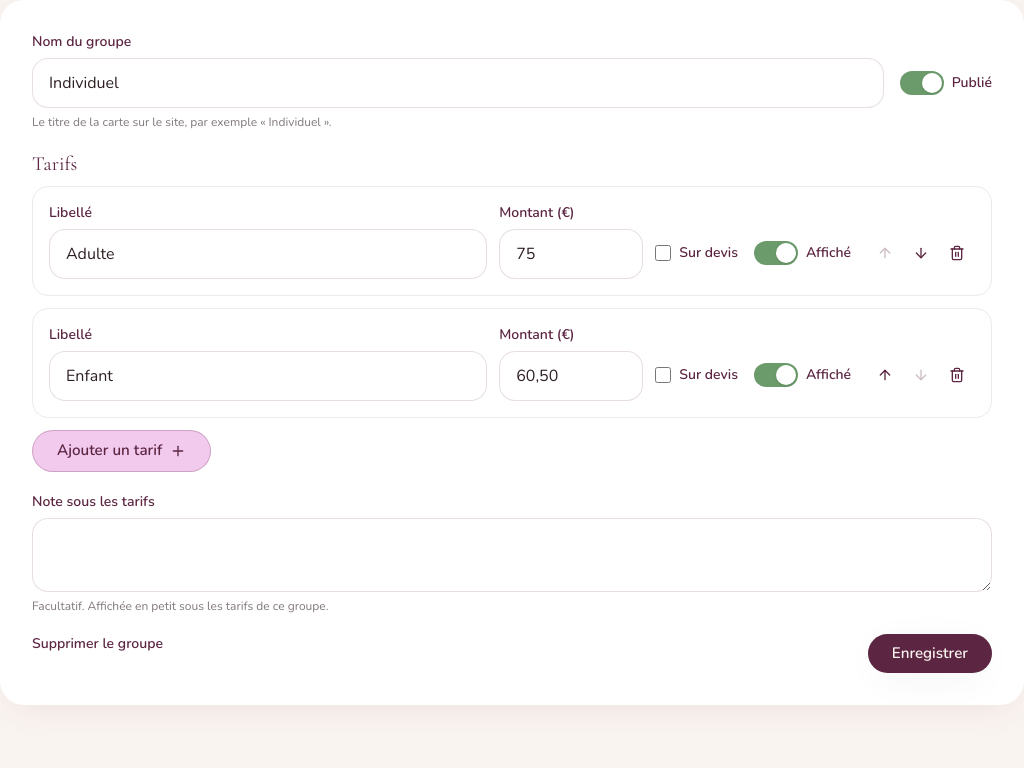
Test case: PricingGroupForm › shows a line's error on that line
Step 1. Clear the 2nd field labelled "Montant (€)" → coordinates (571, 376), box x1=499 y1=351 x2=643 y2=401
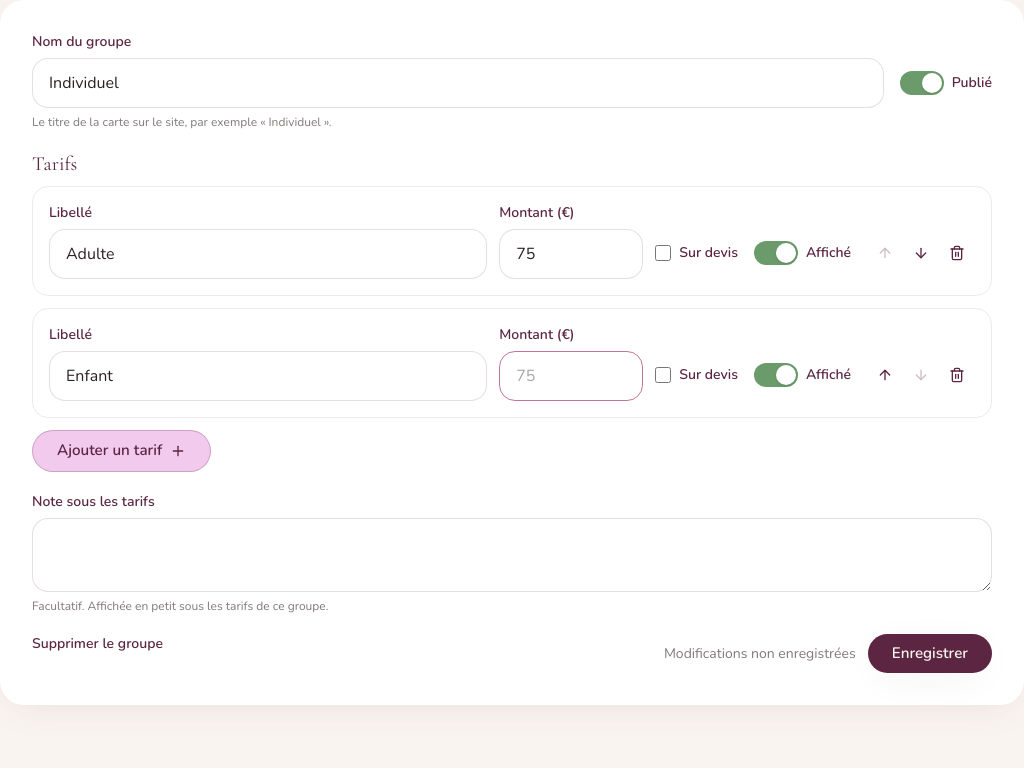
Step 2. Click the button "Enregistrer" → coordinates (930, 654), box x1=868 y1=634 x2=992 y2=673
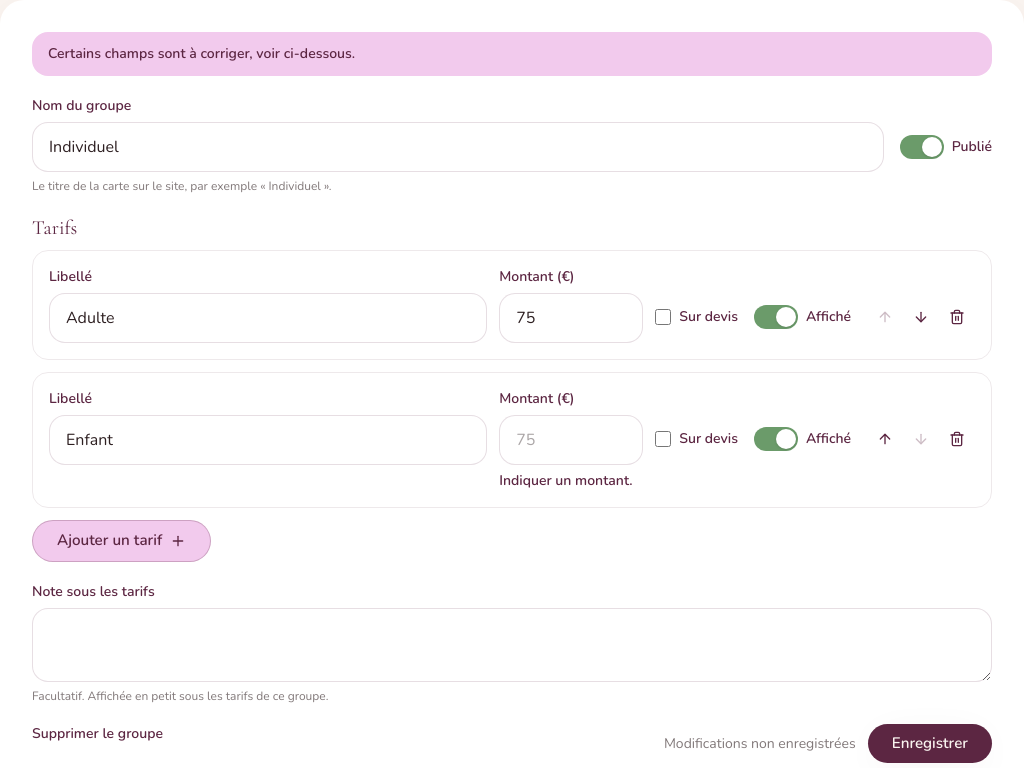
Expected: the text "Indiquer un montant." is shown, x1=499 y1=471 x2=643 y2=491
